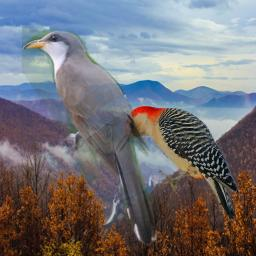Cuckoo: (22, 27, 162, 248)
Woodpecker: (114, 105, 242, 226)
